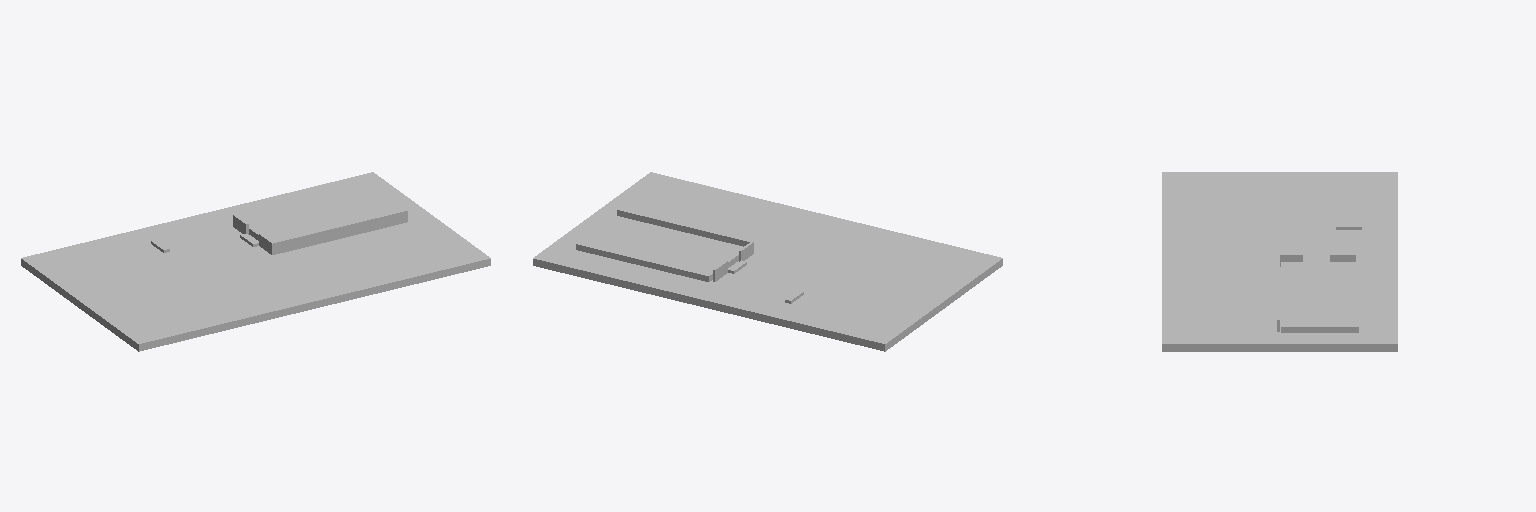
File: collider.obj
The picture shows the model from 3 angles: view 1: azimuth 30°, elevation 25°; view 2: azimuth 150°, elevation 25°; view 3: azimuth 270°, elevation 25°; orthographic projection.
Parts seen in each view (by area): view 1: Cube_Cube.001, Cube.001_Cube.002, Cube.003_Cube.004; view 2: Cube_Cube.001, Cube.001_Cube.002, Cube.003_Cube.004; view 3: Cube_Cube.001, Cube.001_Cube.002.
Boxes of the visible parts, x1=… form: Cube_Cube.001: x1=21, y1=172, x2=490, y2=351; Cube.001_Cube.002: x1=240, y1=186, x2=401, y2=241; Cube.003_Cube.004: x1=272, y1=210, x2=407, y2=254; Cube_Cube.001: x1=533, y1=172, x2=1002, y2=351; Cube.001_Cube.002: x1=576, y1=215, x2=742, y2=281; Cube.003_Cube.004: x1=617, y1=209, x2=753, y2=253; Cube_Cube.001: x1=1162, y1=172, x2=1397, y2=351; Cube.001_Cube.002: x1=1281, y1=262, x2=1358, y2=332.
Size of the model in its own units: 99.84 by 5.2 by 57.82.